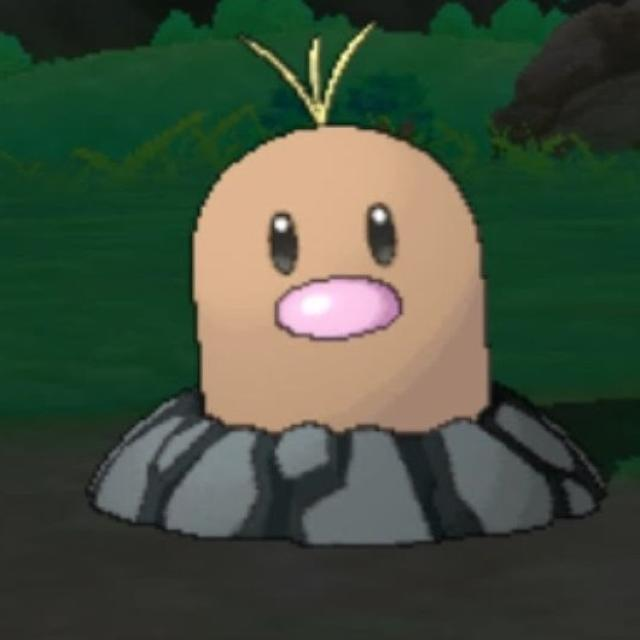Diglett: (178, 106, 500, 440)
